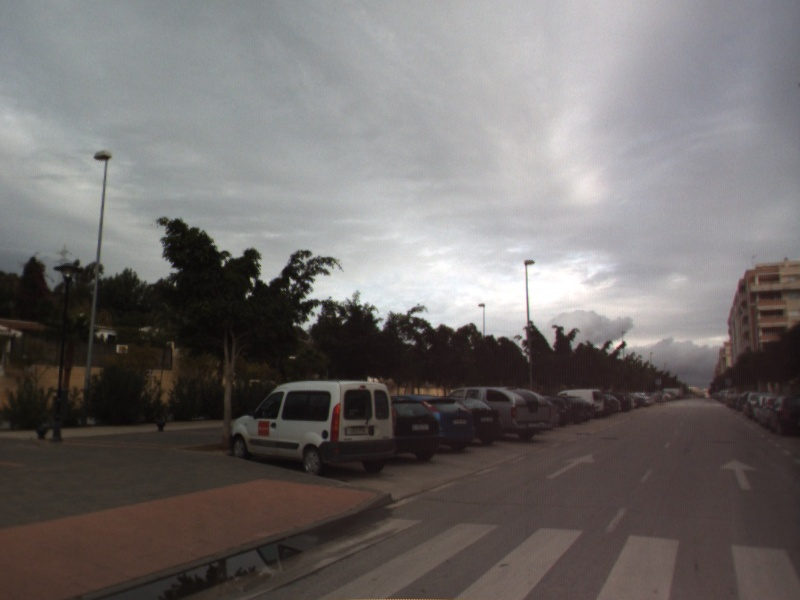STRAIGHT: (544, 451, 597, 480), (718, 457, 761, 492)
